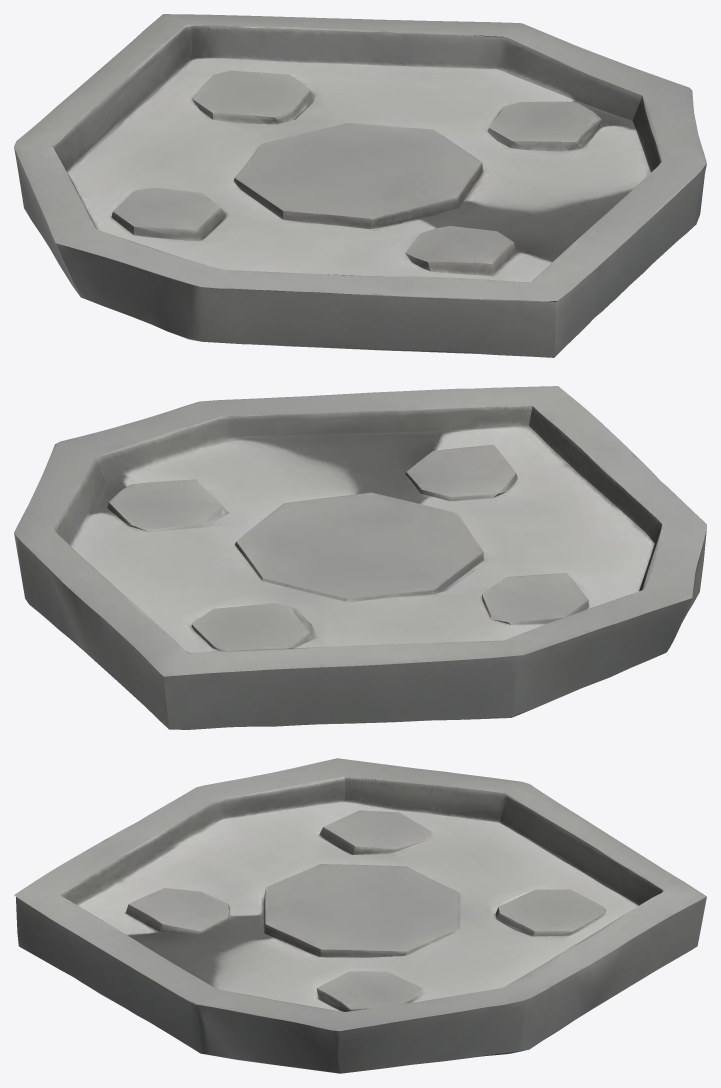
Rendered from m2HexPlatformV2.glb.
3 views of the same model, one above another, from view 1: azimuth 30°, elevation 25°; view 2: azimuth 150°, elevation 25°; view 3: azimuth 270°, elevation 25° (orthographic). The views are drawn at different scales.
Visible parts, largest first — view 1: model; view 2: model; view 3: model.
Boxes of the visible parts, x1,y1,x2,y2 form: model: (14, 14, 706, 357); model: (14, 386, 706, 729); model: (14, 758, 706, 1073).
Bounding box in the file's own units: 1.77 × 0.1784 × 1.9.
1 material, 1 textured.
